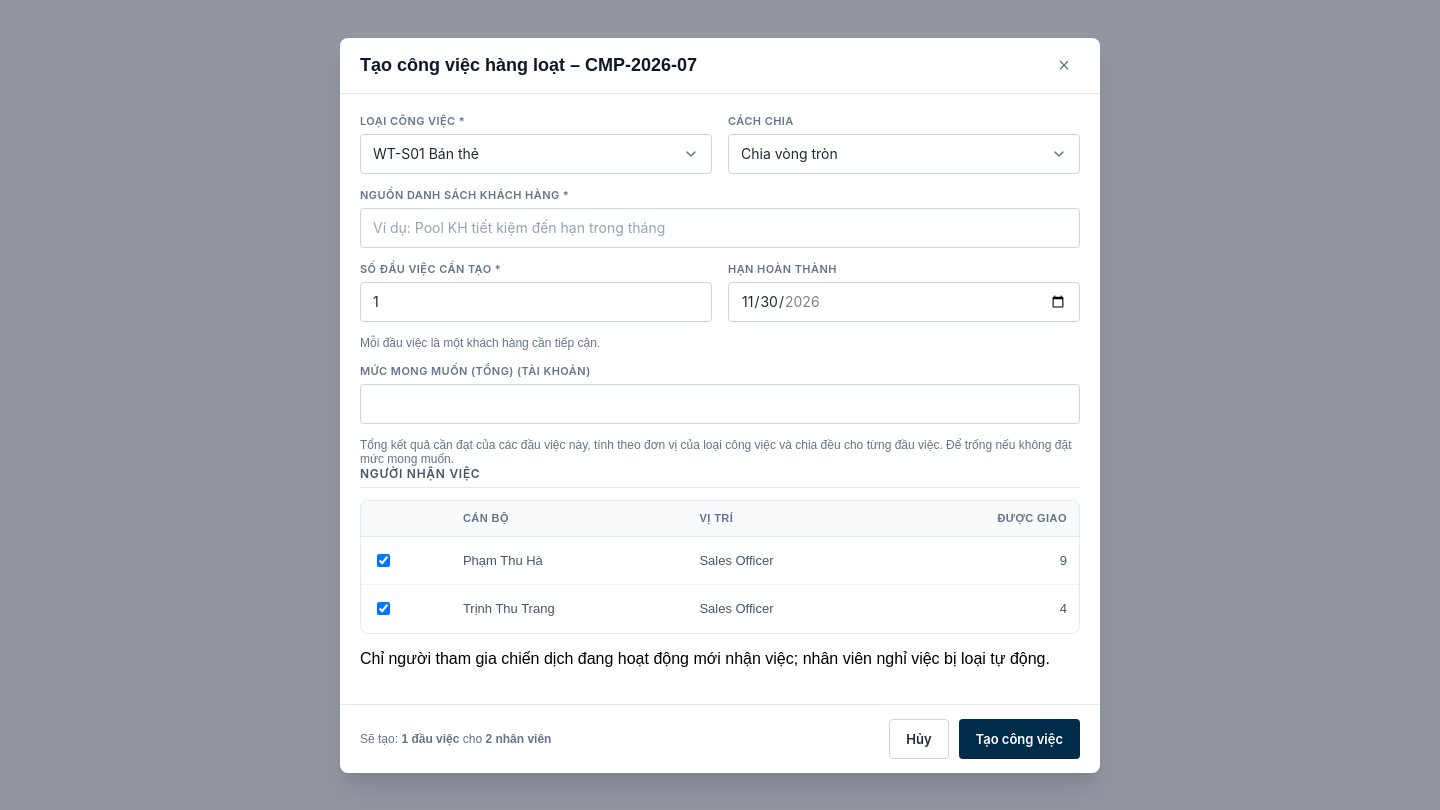
Test: CampaignBatchModalComponent › shows the server message and allows another attempt when generating fails
In the field with id "batch-pool": coordinates (720, 228) [360, 208, 1080, 248], type "Pool"
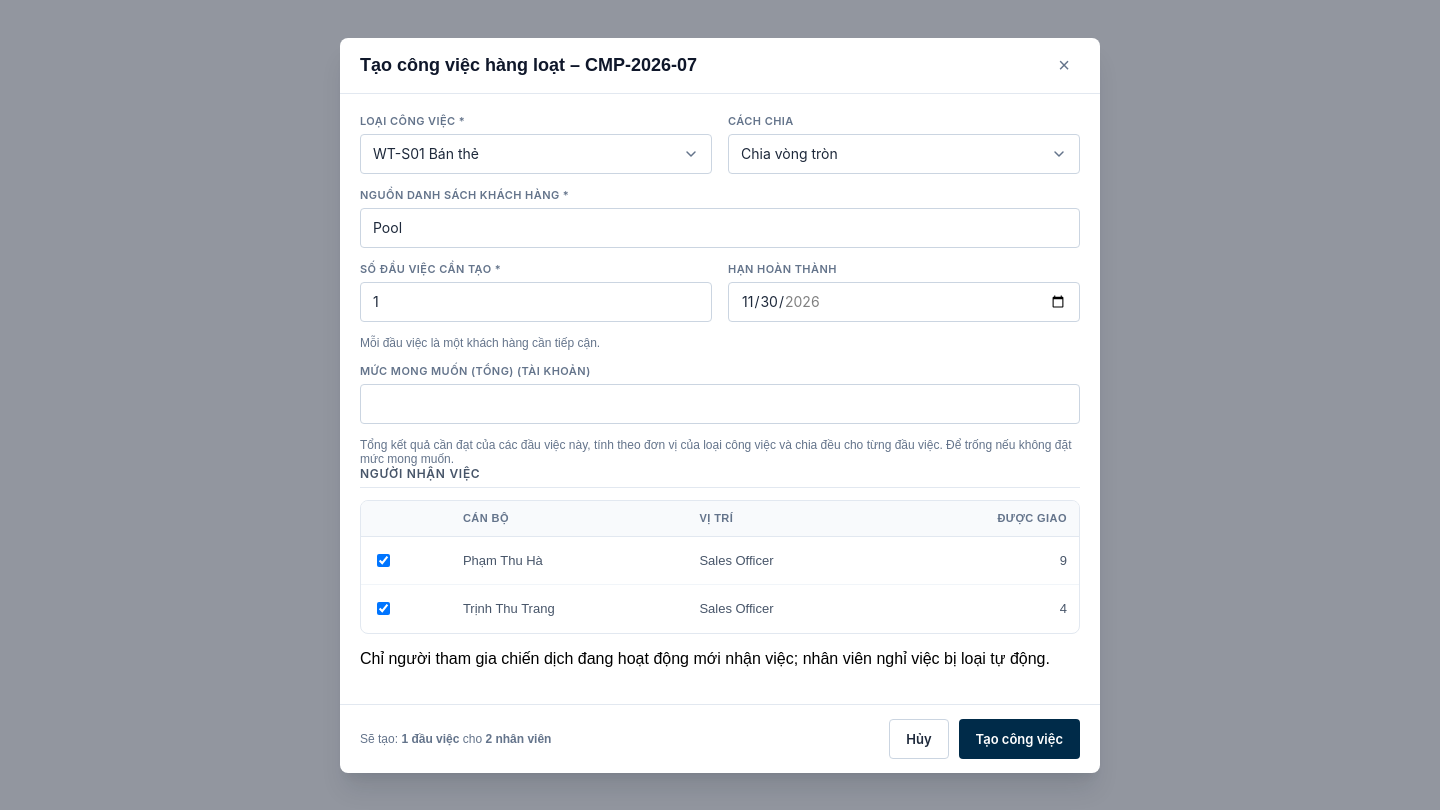
Replace the text in the number field with id "batch-total" with "5": coordinates (536, 302) [360, 282, 712, 322]
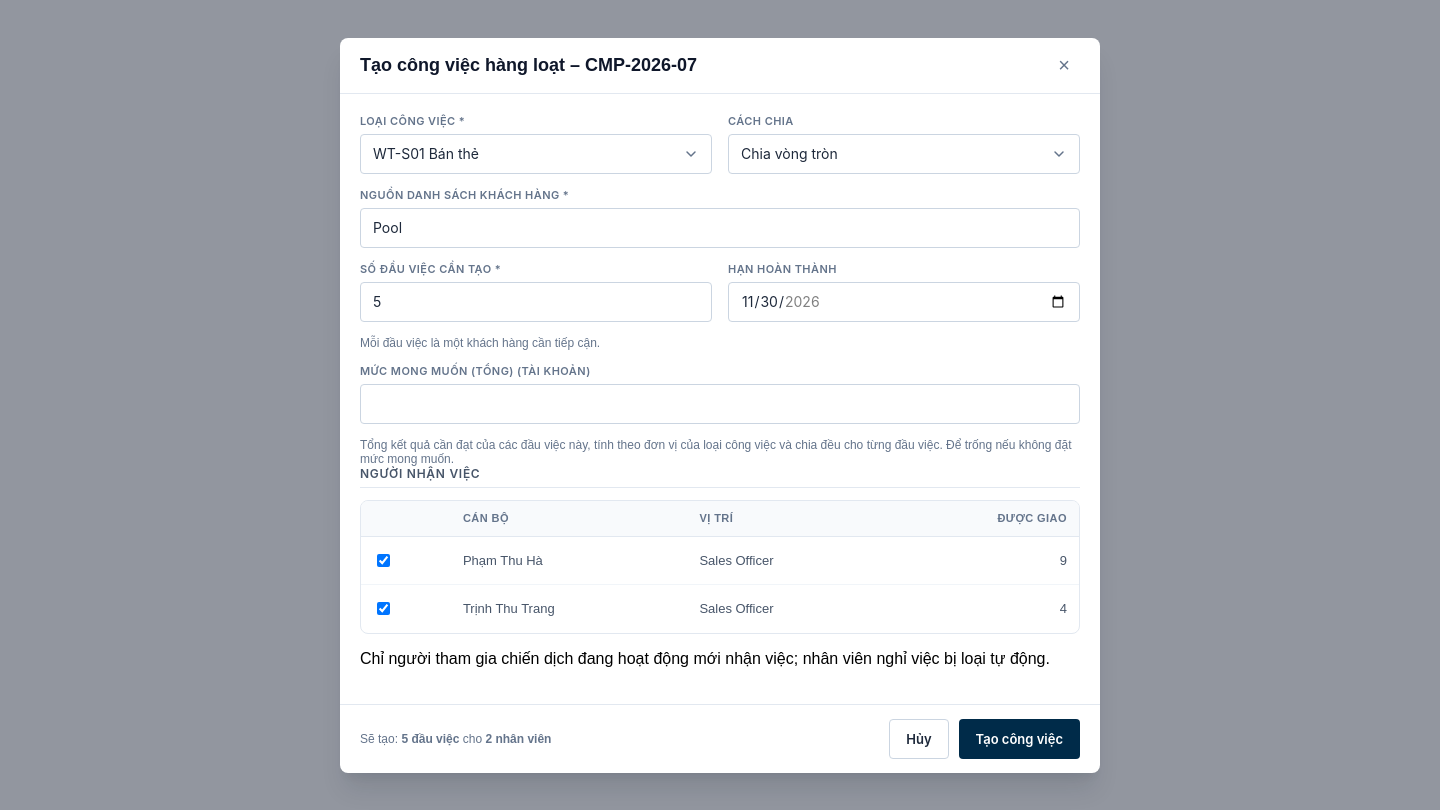
Submit the form, box [340, 94, 1100, 772]
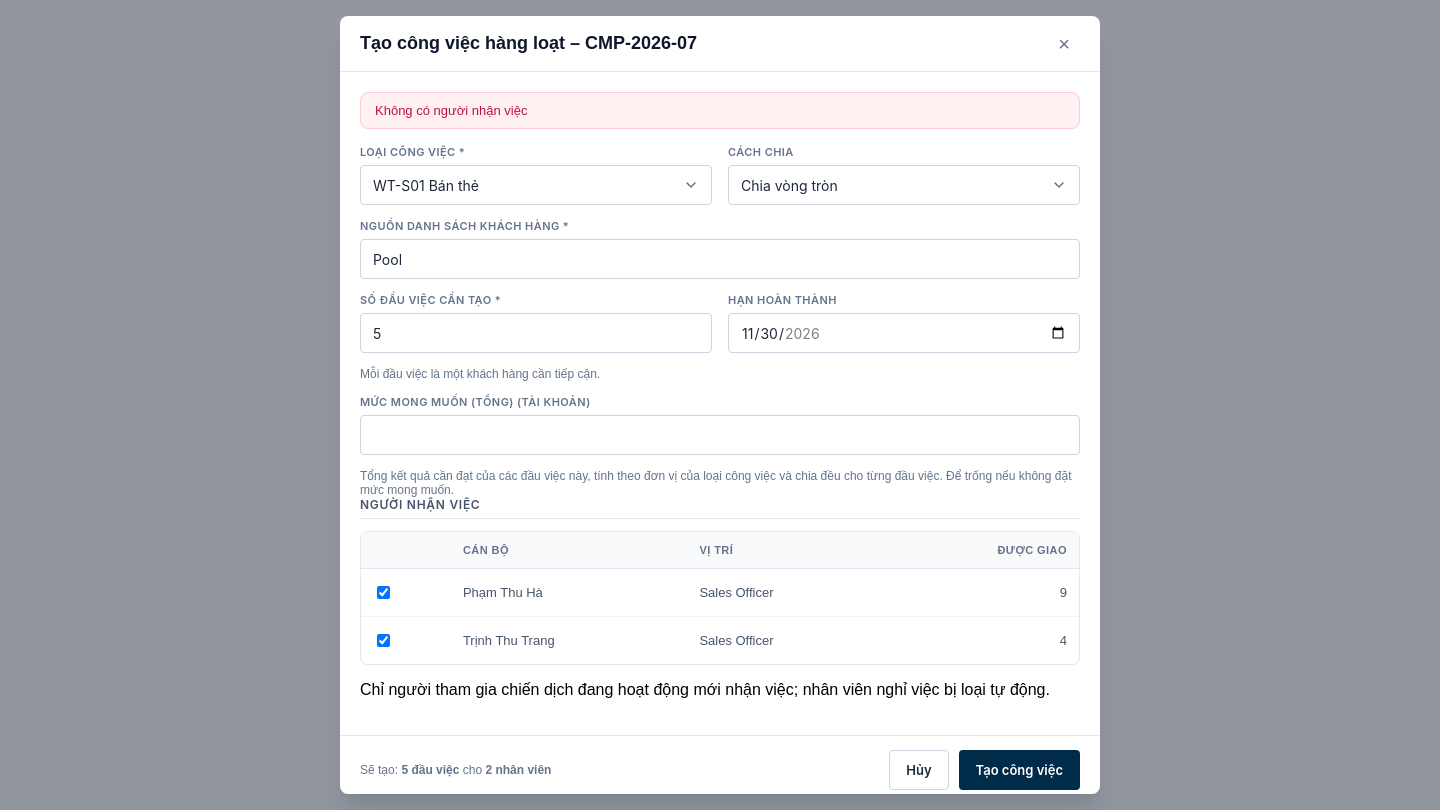
Expected: the submit button is enabled, [959, 750, 1080, 790]
Expected: the text "Không có người nhận việc" is shown, [375, 103, 527, 118]
